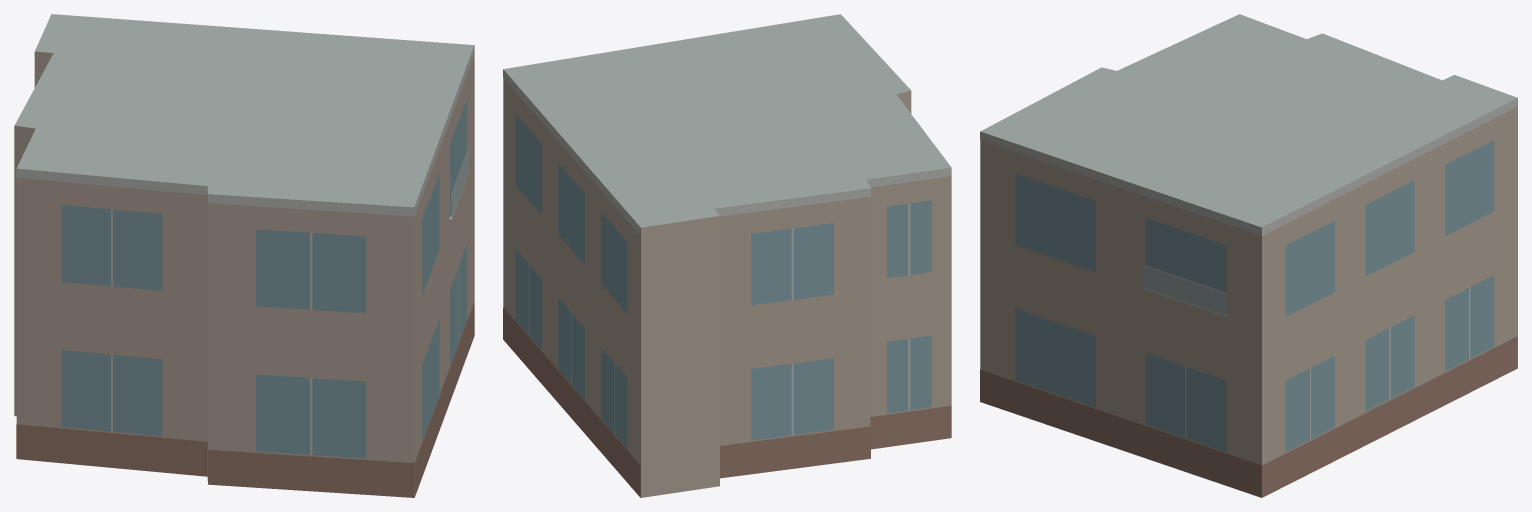
File: survey-upis-32917054.glb
3 renders of one model, left to right at view 1: azimuth 30°, elevation 25°; view 2: azimuth 150°, elevation 25°; view 3: azimuth 270°, elevation 25°, orthographic. The views are drawn at different scales.
Visible parts, largest first — view 1: survey-upis-32917054.tmp; view 2: survey-upis-32917054.tmp; view 3: survey-upis-32917054.tmp.
Part boxes in pixels (x1,y1,x2,y2): survey-upis-32917054.tmp: (14, 14, 474, 497); survey-upis-32917054.tmp: (503, 14, 951, 497); survey-upis-32917054.tmp: (980, 14, 1517, 497).
Bounding box in the file's own units: 13.22 × 7.8 × 14.07.
